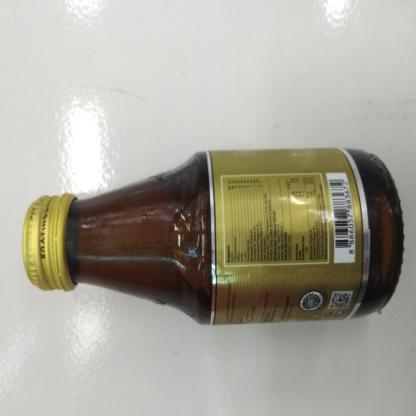keyboard: (17, 140, 407, 328)
